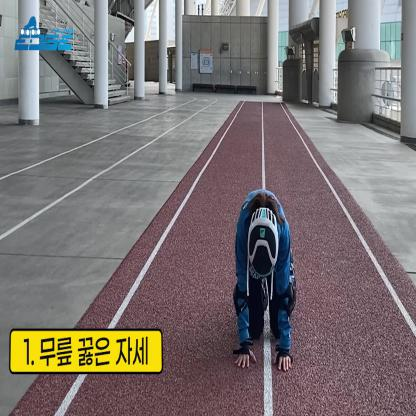Fall_Down: (233, 190, 297, 374)
